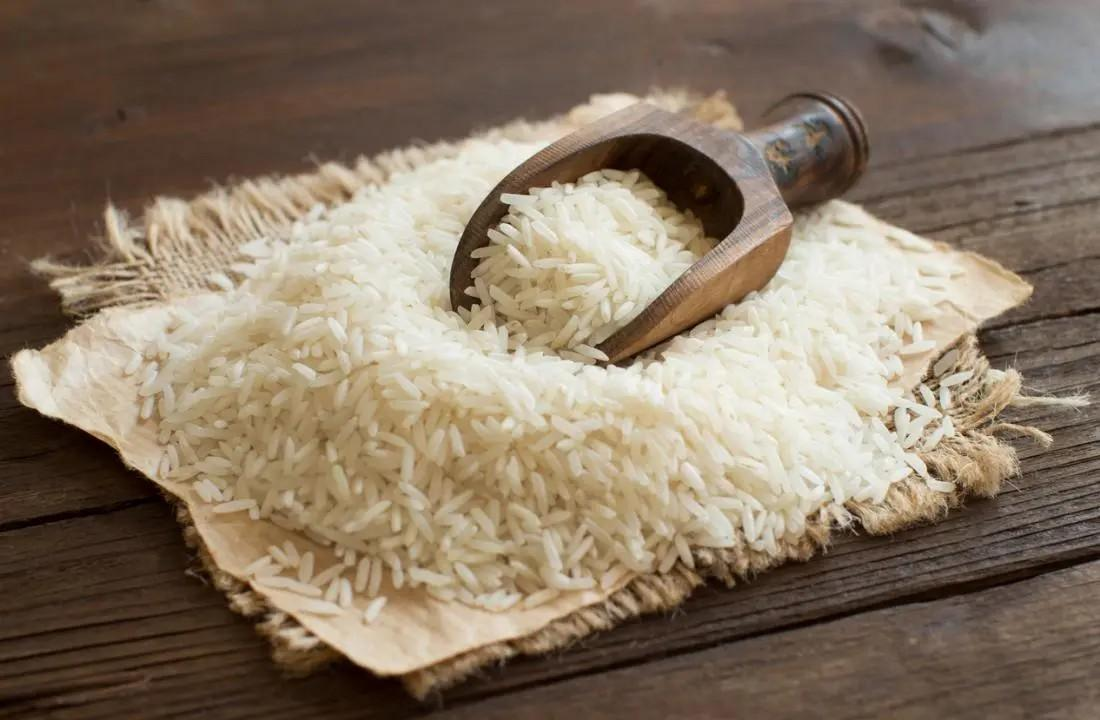WhiteRice: (121, 160, 971, 627)
